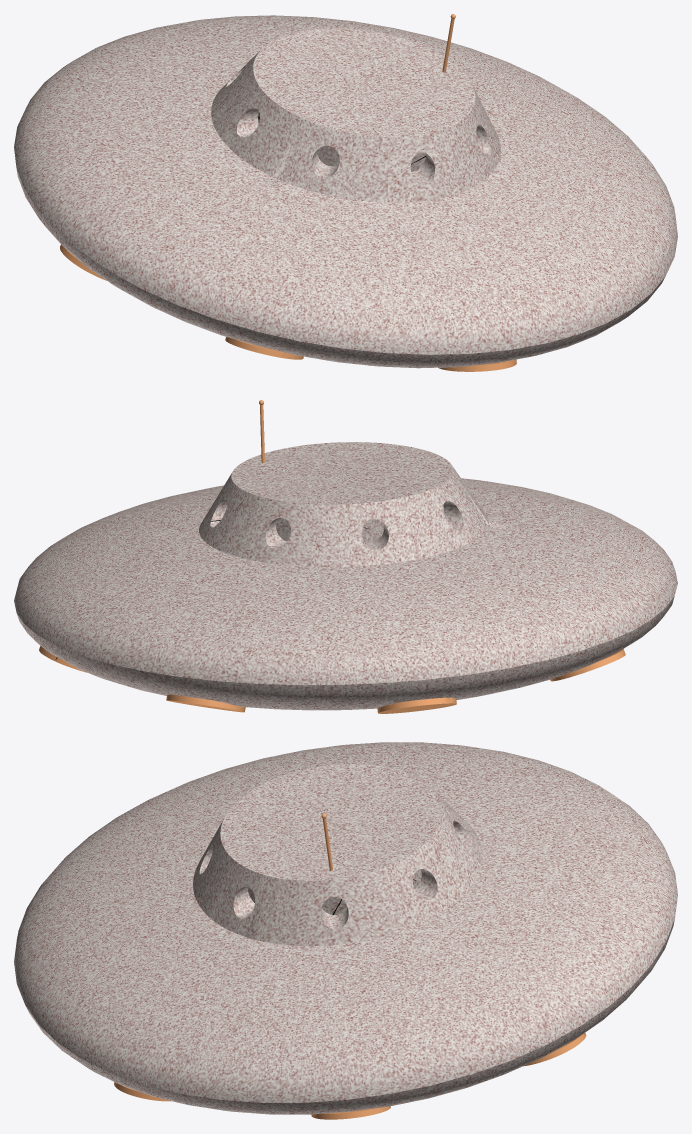
File: ufo-optimized.glb
The picture shows the model from 3 angles, top to bottom: view 1: azimuth 30°, elevation 25°; view 2: azimuth 150°, elevation 25°; view 3: azimuth 270°, elevation 25°; orthographic projection.
Visible parts, largest first — view 1: obj_0.001__0; view 2: obj_0.001__0; view 3: obj_0.001__0.
Part boxes in pixels (x1,y1,x2,y2): obj_0.001__0: [14, 14, 677, 371]; obj_0.001__0: [14, 400, 677, 713]; obj_0.001__0: [14, 742, 677, 1119].
Bounding box in the file's own units: 5.63 × 2.4 × 5.62.
Materials: 1 (1 with a texture image).
